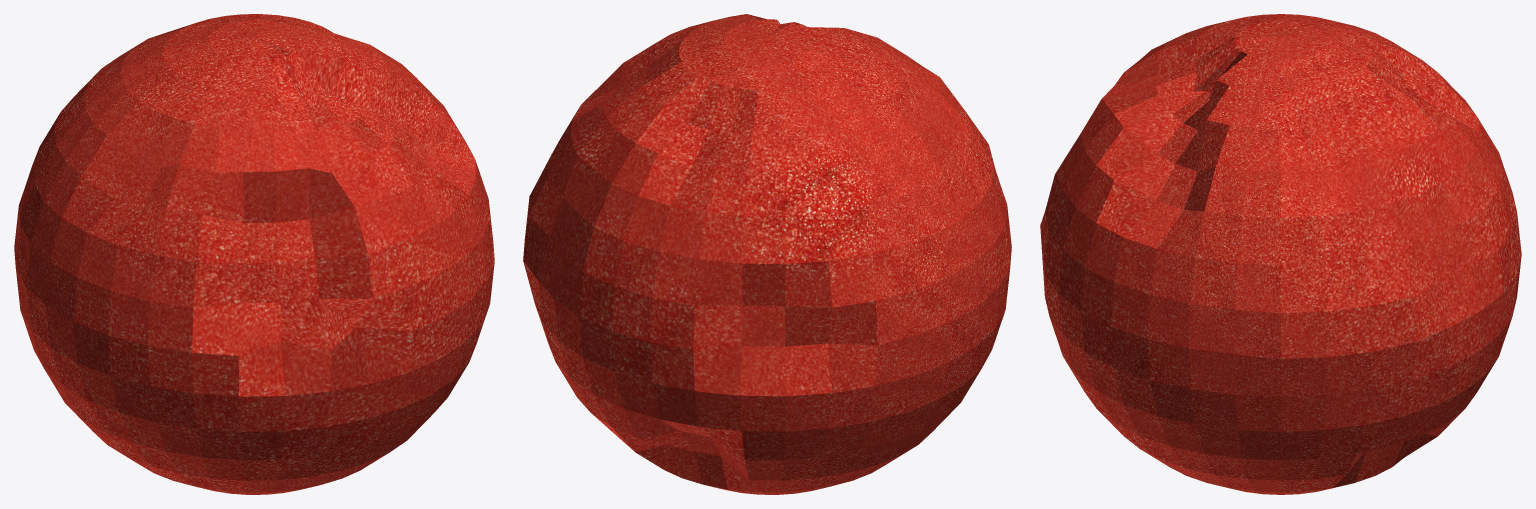
File: Asteroid4.fbx
The picture shows the model from 3 angles, left to right: view 1: azimuth 30°, elevation 25°; view 2: azimuth 150°, elevation 25°; view 3: azimuth 270°, elevation 25°; orthographic projection.
Visible parts, largest first — view 1: Сфера.002; view 2: Сфера.002; view 3: Сфера.002.
Part boxes in pixels (x1=…): Сфера.002: x1=14, y1=14, x2=494, y2=494; Сфера.002: x1=523, y1=14, x2=1011, y2=494; Сфера.002: x1=1040, y1=14, x2=1521, y2=494.
Bounding box in the file's own units: 2.03 × 2 × 2.
1 material, 1 textured.
